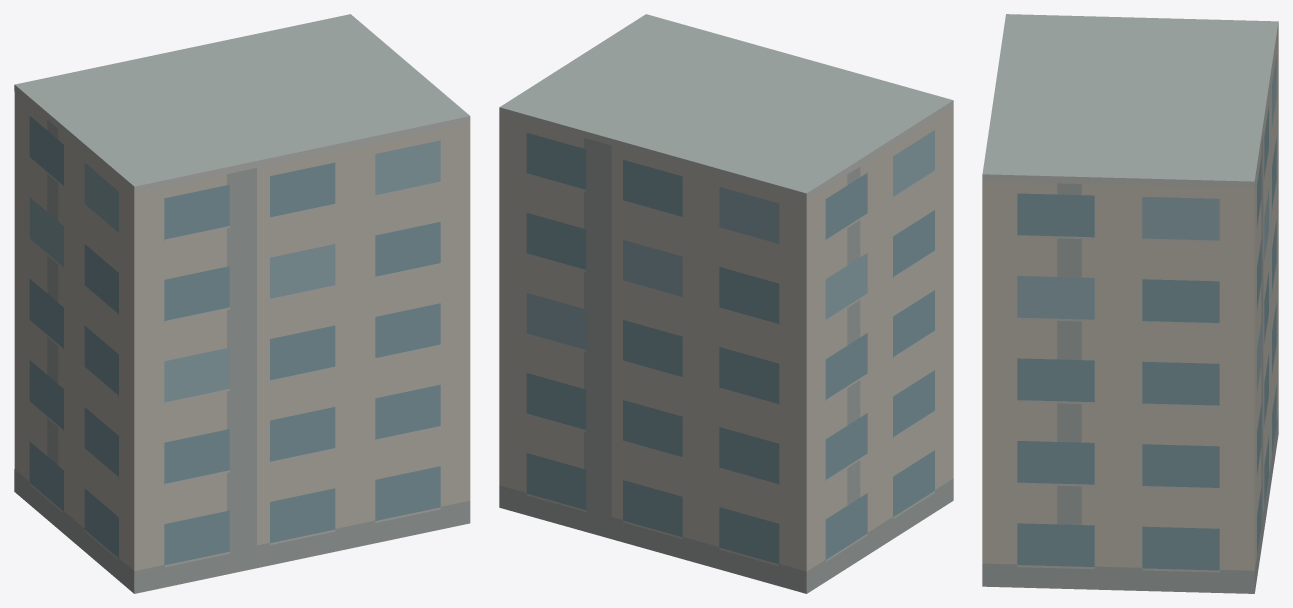
File: residential-6e03154e-31c6-4a6d-80d3-585553bb47c4.glb
3 renders of one model, left to right at view 1: azimuth 30°, elevation 25°; view 2: azimuth 150°, elevation 25°; view 3: azimuth 270°, elevation 25°, orthographic. The views are drawn at different scales.
Visible parts, largest first — view 1: residential-6e03154e-31c6-4a6d-80d3-585553bb47c4.tmp; view 2: residential-6e03154e-31c6-4a6d-80d3-585553bb47c4.tmp; view 3: residential-6e03154e-31c6-4a6d-80d3-585553bb47c4.tmp.
Boxes of the visible parts, x1,y1,x2,y2 form: residential-6e03154e-31c6-4a6d-80d3-585553bb47c4.tmp: [14, 14, 470, 593]; residential-6e03154e-31c6-4a6d-80d3-585553bb47c4.tmp: [499, 14, 953, 593]; residential-6e03154e-31c6-4a6d-80d3-585553bb47c4.tmp: [982, 14, 1278, 593].
Size of the model in its own units: 12.38 by 14.2 by 9.25.
